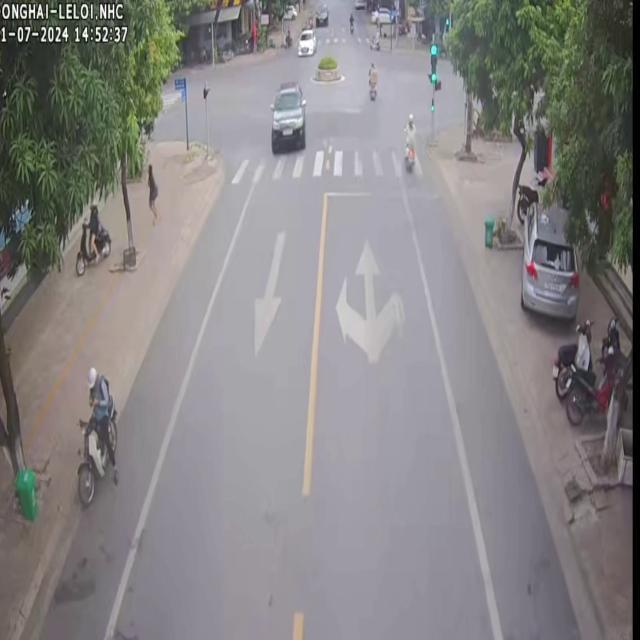car: (519, 200, 578, 318), (269, 80, 304, 151), (296, 27, 316, 56)
green_light: (429, 46, 436, 83)
motobike: (76, 365, 117, 502), (564, 345, 617, 422), (550, 318, 590, 399), (402, 111, 416, 169), (367, 60, 377, 98)
stop_line: (324, 188, 441, 196)
